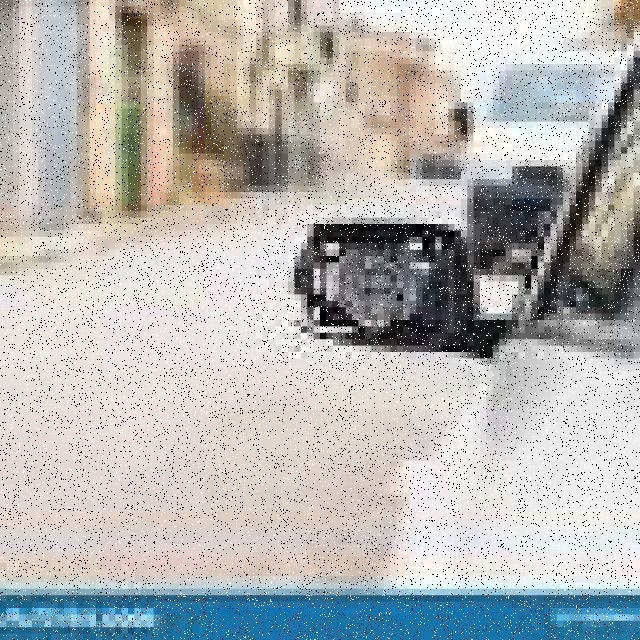Sidemirror-Damage: (276, 218, 487, 352)
